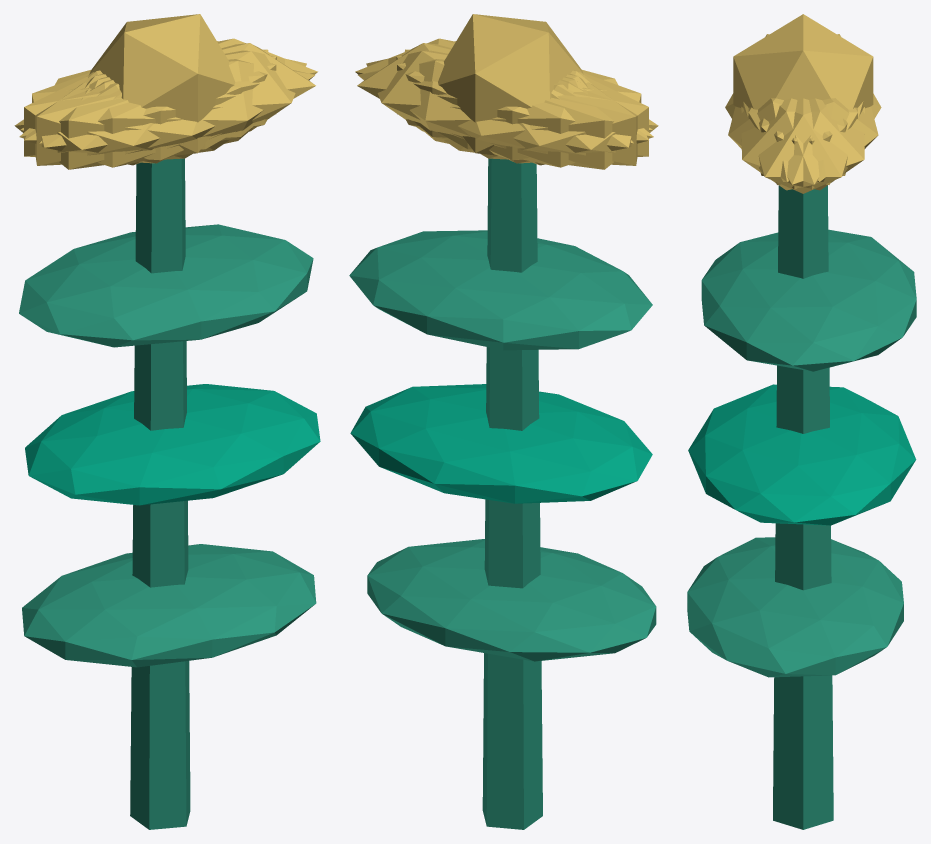
File: magnolia-champaca.glb
3 renders of one model, left to right at view 1: azimuth 30°, elevation 25°; view 2: azimuth 150°, elevation 25°; view 3: azimuth 270°, elevation 25°, orthographic.
Visible parts, largest first — view 1: leaf0, leaf1, leaf2, stem, center, petal1, petal6, petal2, petal5, petal7, petal0, petal4 (+2 smaller); view 2: leaf2, leaf1, leaf0, stem, center, petal8, petal3, petal7, petal4, petal2, petal0, petal5 (+2 smaller); view 3: leaf1, leaf2, leaf0, stem, center, petal0, petal4, petal5, petal8, petal1.
Part boxes in pixels (left/top/right/bottom): leaf0: left=22, top=544, right=316, bottom=667; leaf1: left=25, top=384, right=320, bottom=505; leaf2: left=19, top=224, right=313, bottom=347; stem: left=130, top=158, right=190, bottom=829; center: left=89, top=14, right=235, bottom=155; petal1: left=19, top=59, right=314, bottom=167; petal6: left=14, top=72, right=228, bottom=169; petal2: left=35, top=49, right=268, bottom=165; petal5: left=39, top=50, right=306, bottom=160; petal7: left=24, top=55, right=276, bottom=163; petal0: left=89, top=43, right=315, bottom=149; petal4: left=20, top=38, right=317, bottom=140; leaf2: left=349, top=230, right=652, bottom=350; leaf1: left=350, top=384, right=652, bottom=503; leaf0: left=367, top=539, right=656, bottom=661; stem: left=482, top=158, right=542, bottom=829; center: left=438, top=14, right=583, bottom=155; petal8: left=358, top=59, right=653, bottom=167; petal3: left=444, top=72, right=658, bottom=169; petal7: left=404, top=49, right=637, bottom=165; petal4: left=366, top=50, right=633, bottom=160; petal2: left=396, top=55, right=648, bottom=163; petal0: left=357, top=43, right=584, bottom=149; petal5: left=355, top=38, right=652, bottom=140; leaf1: left=688, top=384, right=916, bottom=525; leaf2: left=701, top=229, right=916, bottom=371; leaf0: left=687, top=537, right=903, bottom=677; stem: left=773, top=185, right=833, bottom=829; center: left=733, top=14, right=873, bottom=109; petal0: left=743, top=98, right=863, bottom=193; petal4: left=748, top=98, right=864, bottom=190; petal5: left=741, top=98, right=857, bottom=190; petal8: left=759, top=98, right=878, bottom=182; petal1: left=728, top=98, right=847, bottom=181.
Size of the model in its own units: 0.1452 by 0.3783 by 0.1003.
